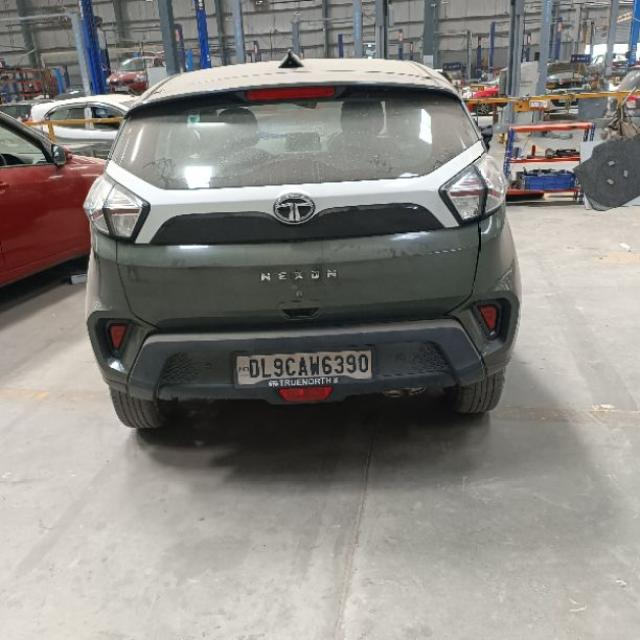license_plate: (232, 347, 373, 387)
